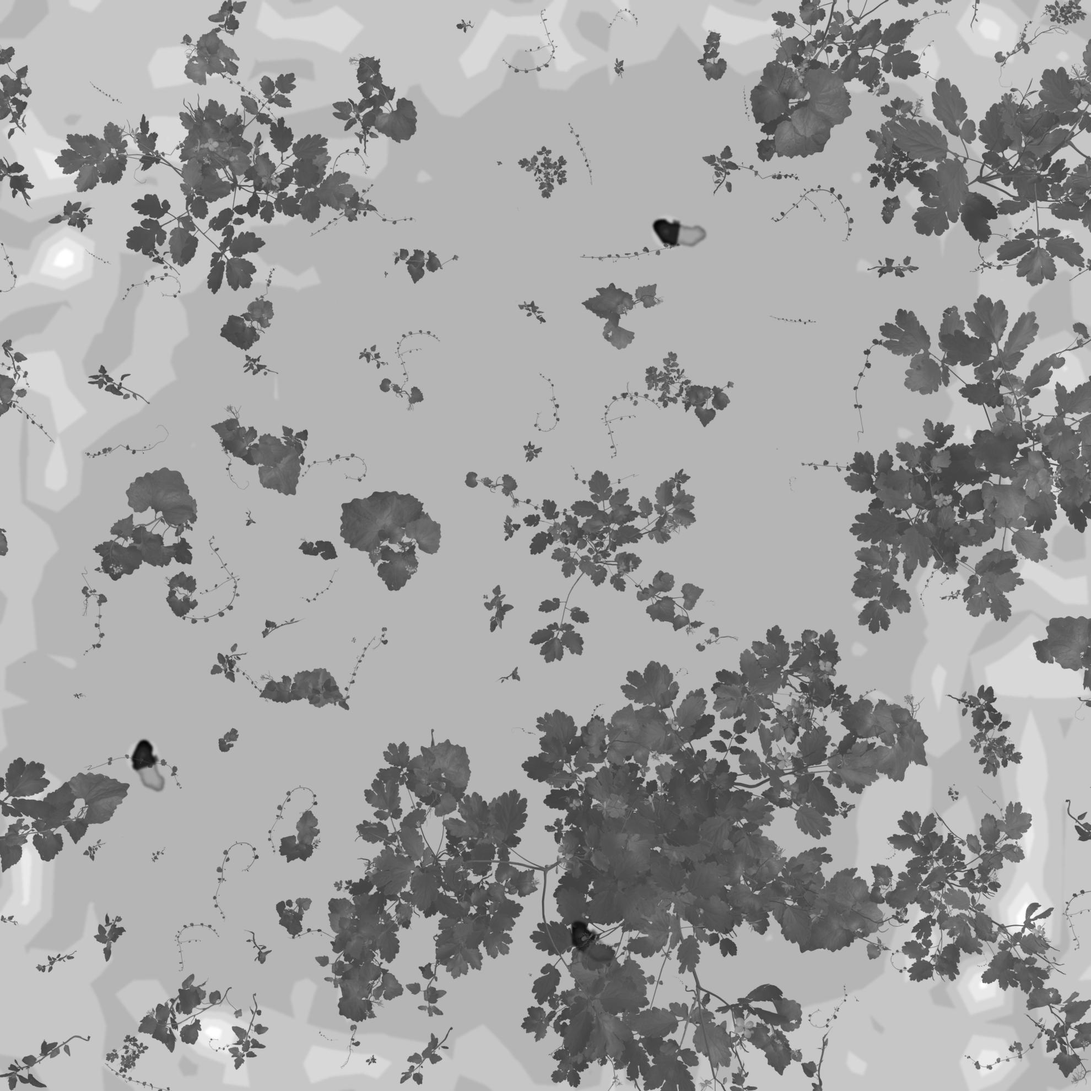landmine: (566, 917, 617, 966), (651, 214, 711, 252), (131, 736, 169, 796)
